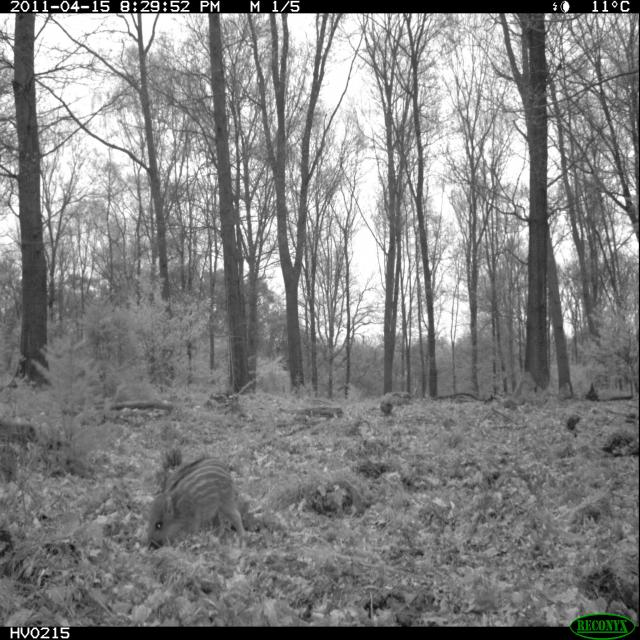boar: (123, 424, 257, 567)
